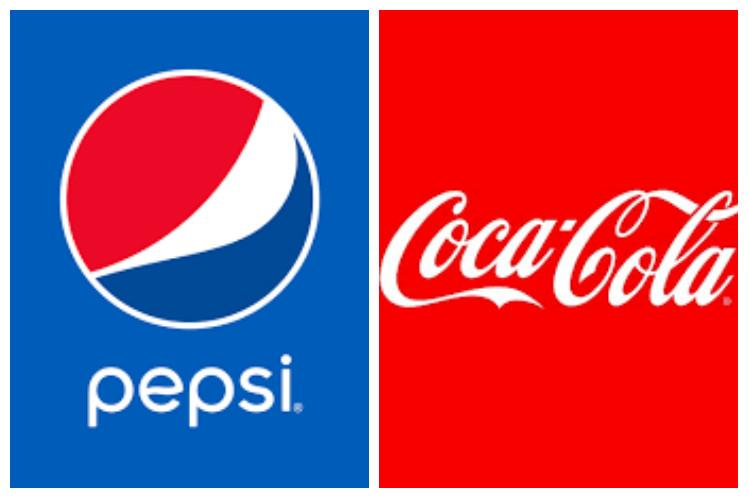pepsi: (51, 61, 318, 329), (51, 66, 318, 329), (57, 66, 318, 329)
